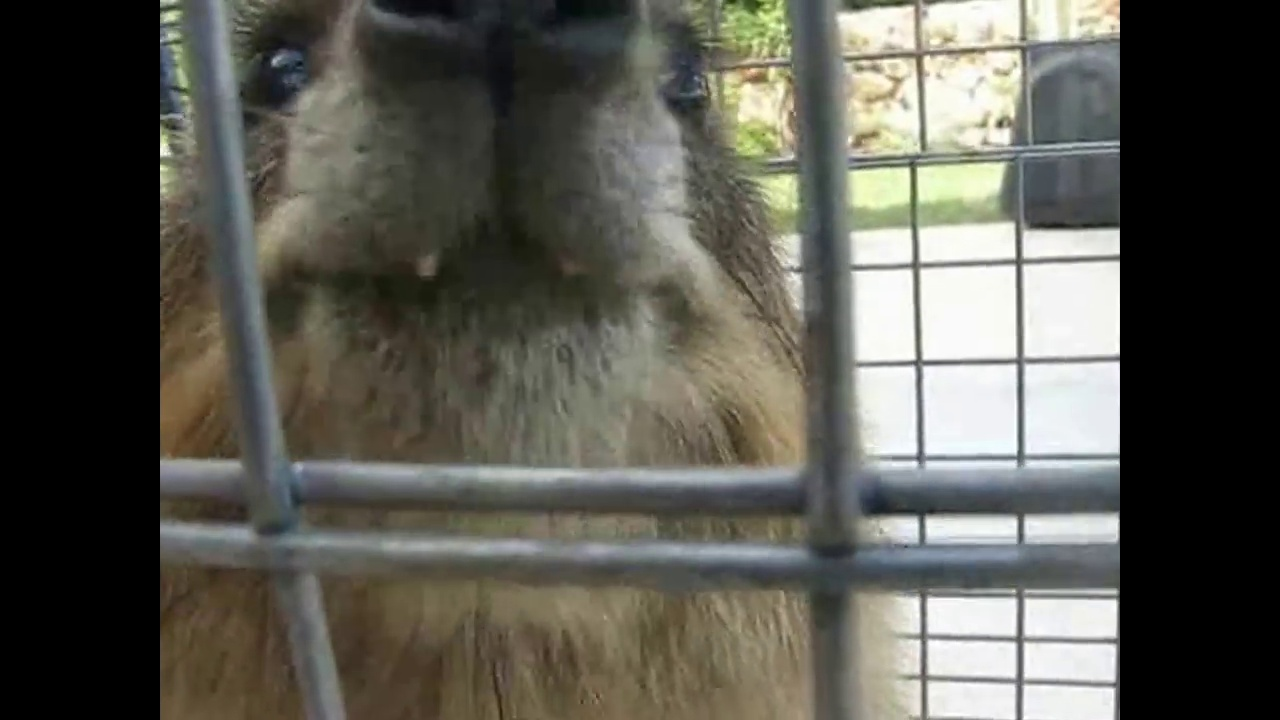Rock Hyrex: (157, 1, 906, 719)
